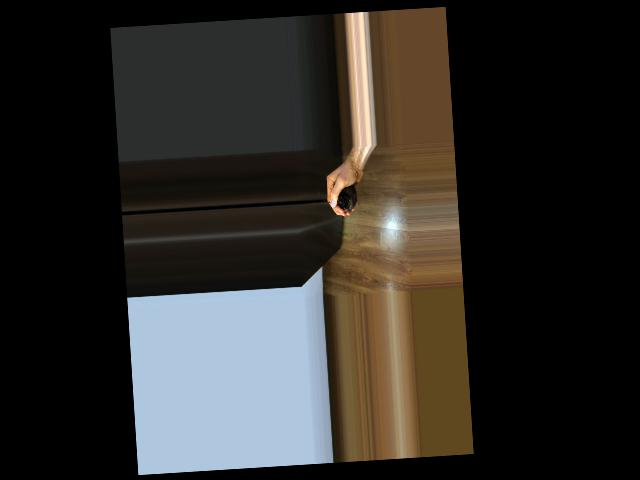beet: (317, 184, 358, 214)
